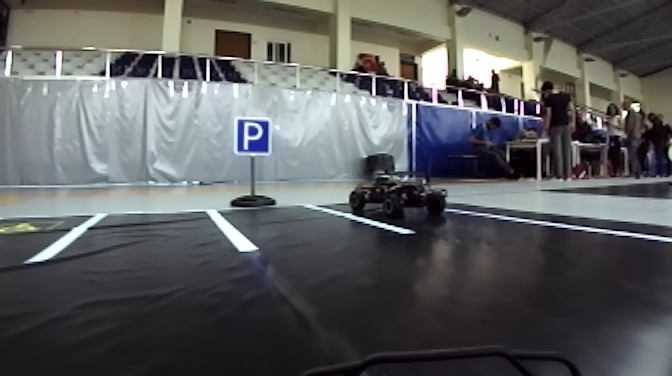park: (230, 115, 274, 159)
